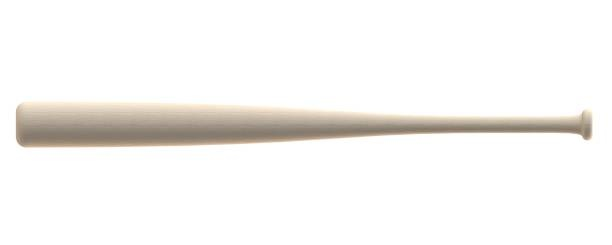bita: (14, 99, 596, 149)
